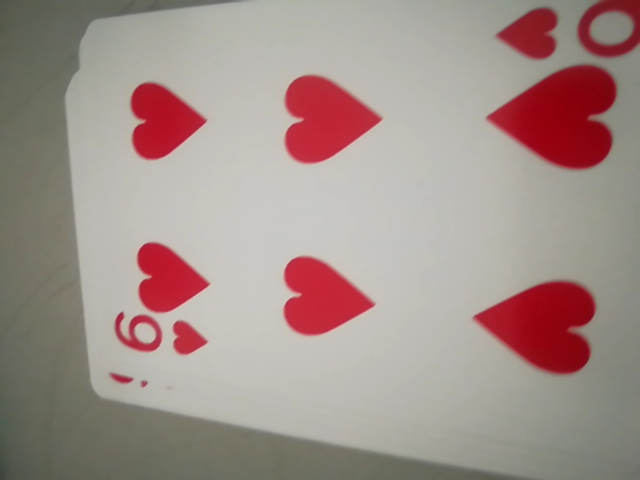hx 6: (100, 307, 221, 360)
